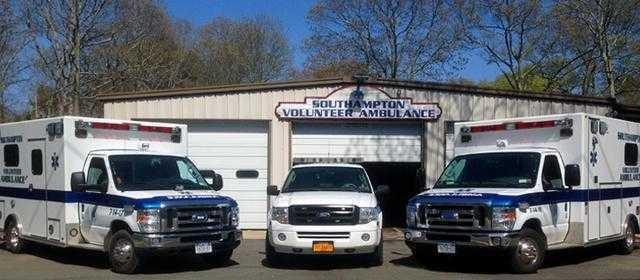car: (0, 115, 242, 273), (403, 112, 639, 273)
